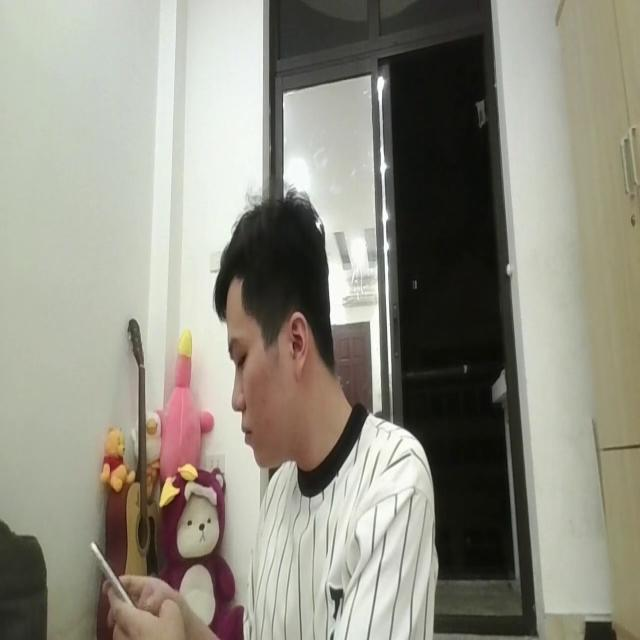phone: (88, 534, 137, 620)
student: (211, 192, 439, 640)
